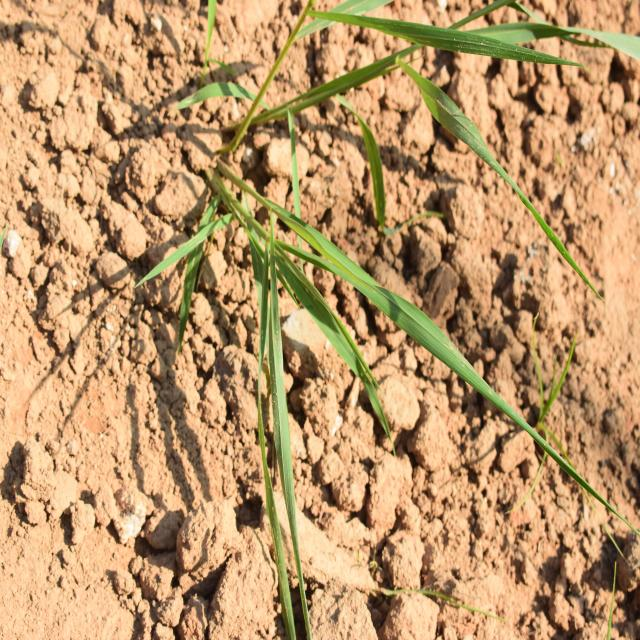green_foxtail: (207, 178, 409, 472)
